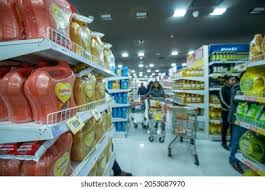other: (9, 86, 83, 98)
saffola: (0, 0, 113, 175)
